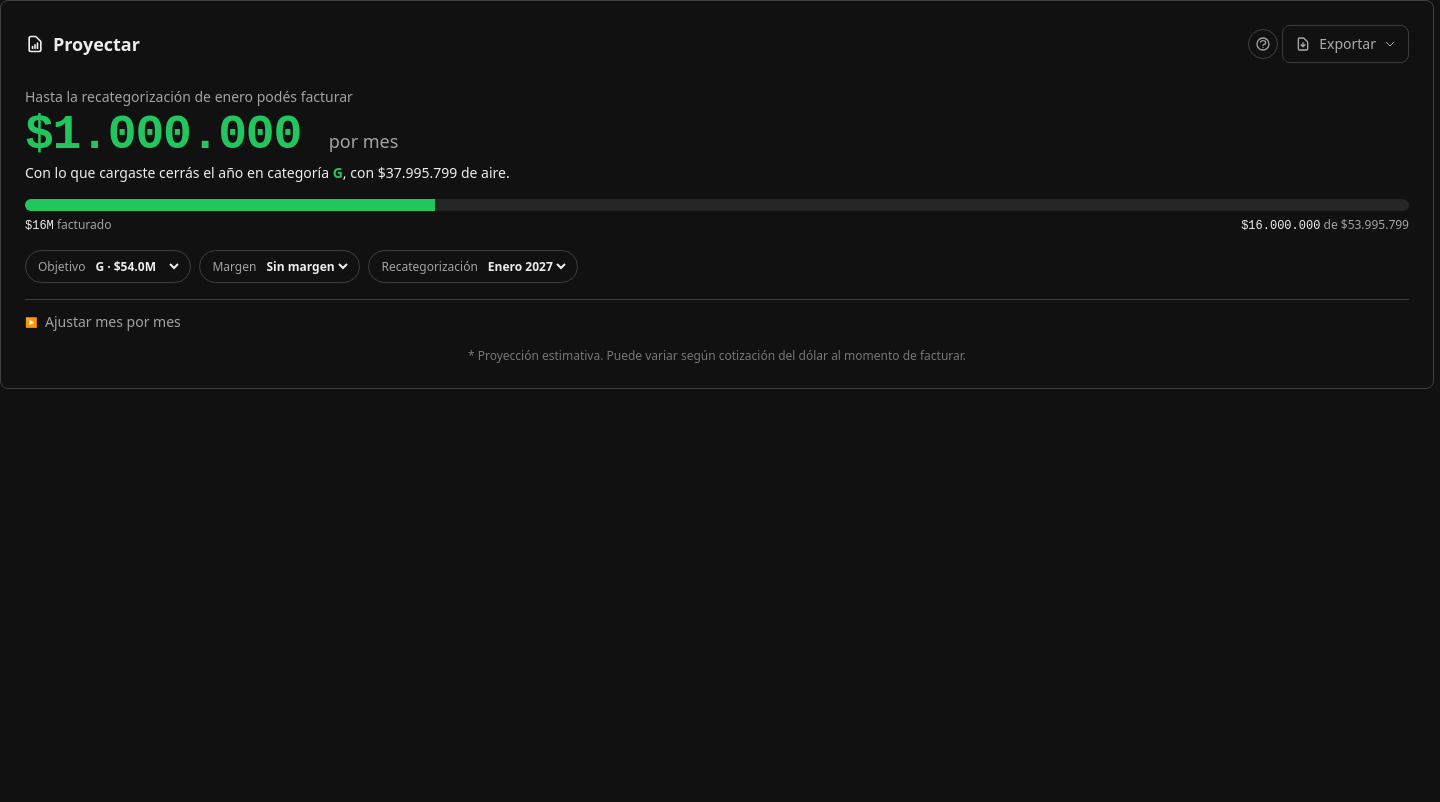
Test: ProjectionPanel · candados y redistribución › no dice 'te quedan $0' cuando el mes en curso no proyecta nada nuevo
Click the heading "▶ Ajustar mes por mes": point(103, 322) [25,312,181,331]
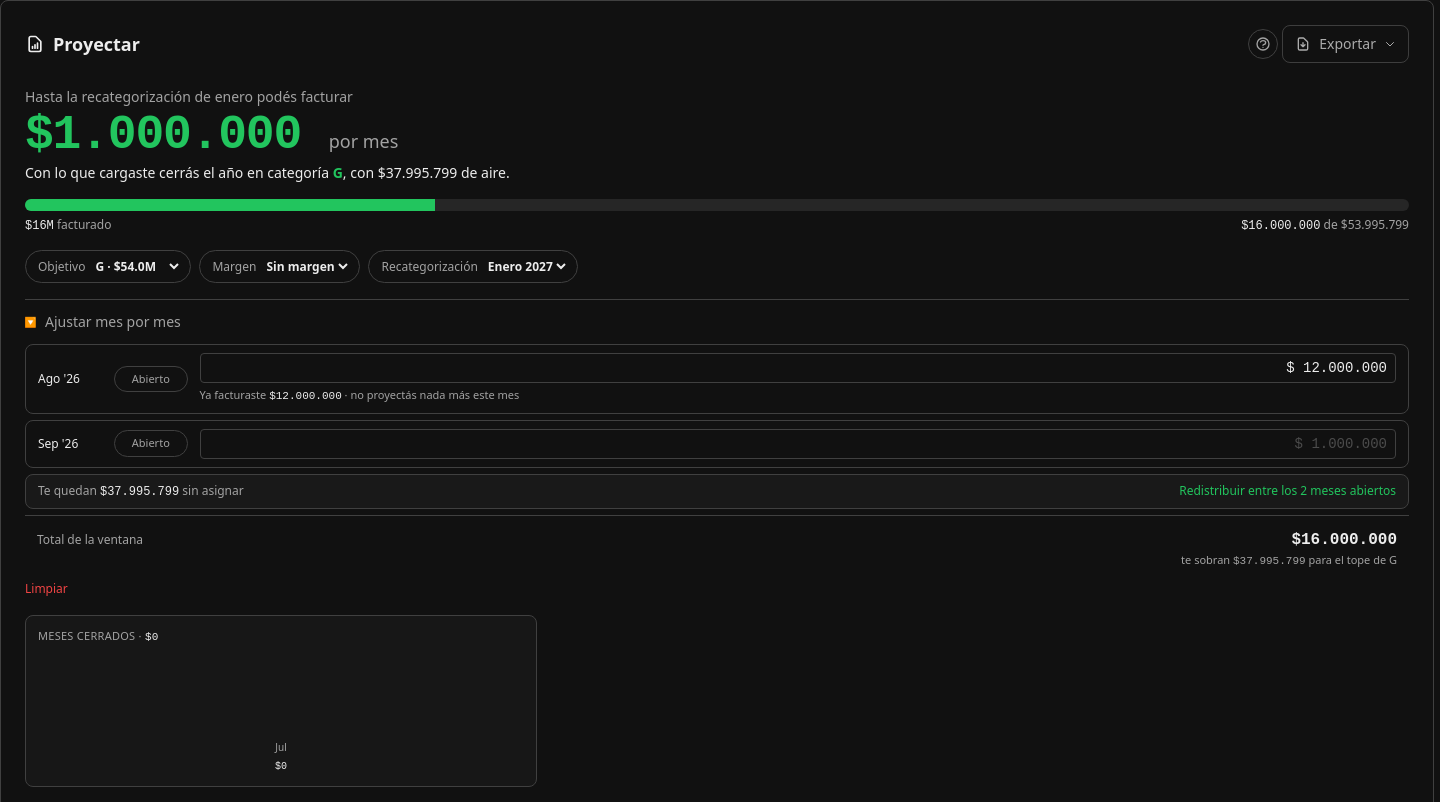
Expected: the element with test id "ya-facturado-2026-08" does not show "$0", [200,387,519,402]
Expected: the element with test id "ya-facturado-2026-08" shows "12.000.000", [276,390,342,402]
Expected: the element with test id "ya-facturado-2026-08" shows "no proyect", [342,387,519,402]
